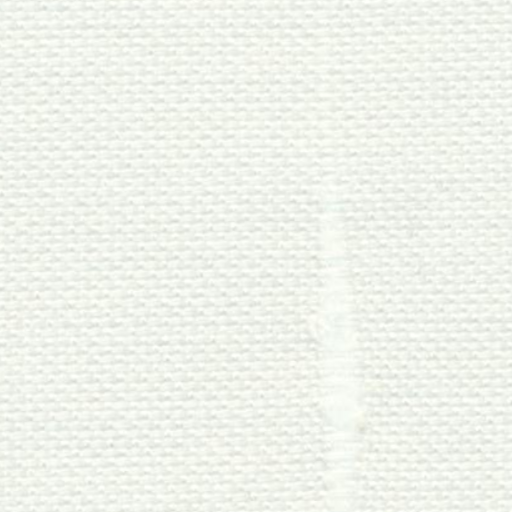DaiSha: (288, 62, 381, 502)
